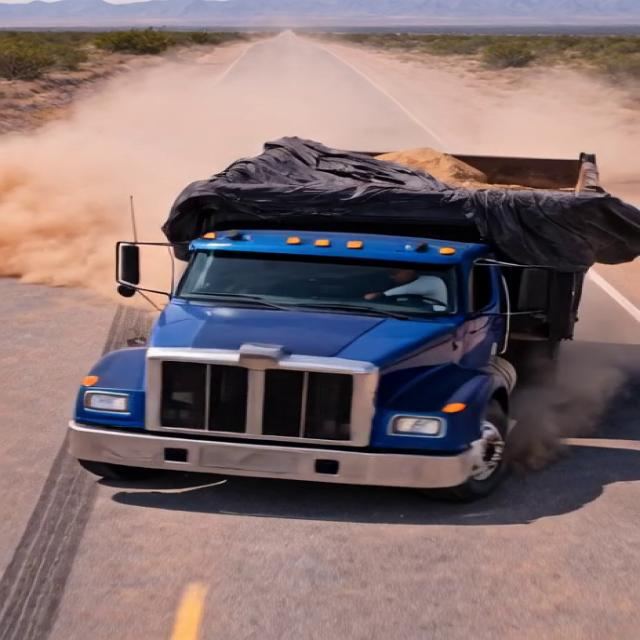Box: (168, 119, 622, 251)
Truck: (46, 107, 621, 485)
